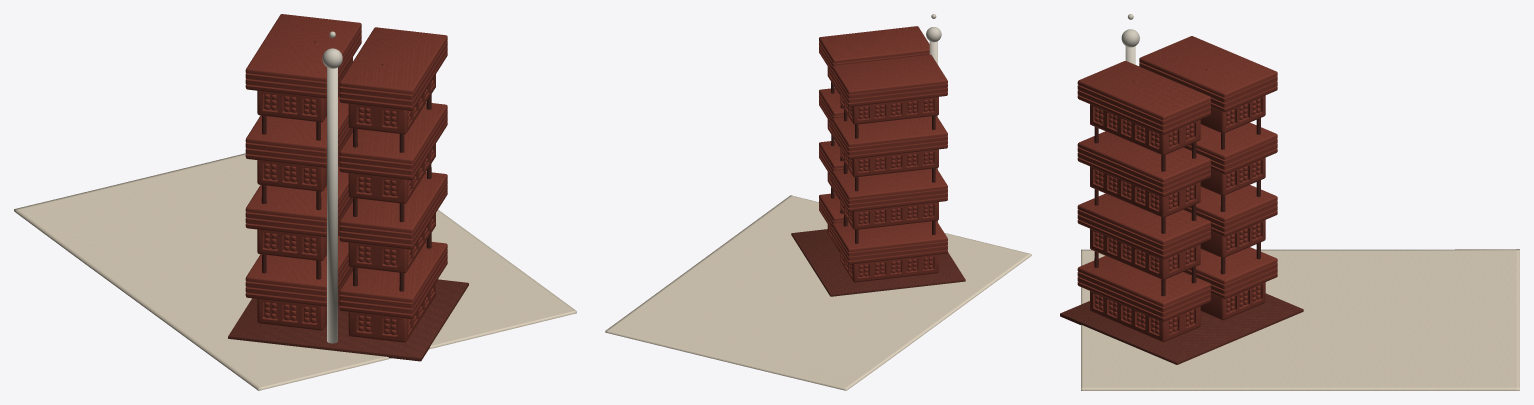
The model's file is layers-baked.glb.
3 views of the same model, side by side, from view 1: azimuth 30°, elevation 25°; view 2: azimuth 150°, elevation 25°; view 3: azimuth 270°, elevation 25° (orthographic). The views are drawn at different scales.
Parts seen in each view (by area): view 1: ground_layers, LAYERS_lid_3L, LAYERS_lid_3R, LAYERS_baseplate, LAYERS_lid_1R, LAYERS_lid_2R, LAYERS_lid_0R, LAYERS_lid_2L, LAYERS_lid_0L, LAYERS_lid_1L, LAYERS_spine, LAYERS_box_1R (+11 smaller); view 2: ground_layers, LAYERS_lid_3L, LAYERS_baseplate, LAYERS_lid_0L, LAYERS_lid_1L, LAYERS_lid_2L, LAYERS_lid_3R, LAYERS_box_0L, LAYERS_box_1L, LAYERS_box_2L, LAYERS_box_3L, LAYERS_lid_0R (+6 smaller); view 3: ground_layers, LAYERS_lid_3R, LAYERS_lid_3L, LAYERS_baseplate, LAYERS_lid_1R, LAYERS_lid_2R, LAYERS_lid_0R, LAYERS_lid_2L, LAYERS_lid_0L, LAYERS_lid_1L, LAYERS_box_0R, LAYERS_box_3R (+10 smaller).
Part boxes in pixels (x1,y1,x2,y2): ground_layers: (14,153,576,390); LAYERS_lid_3L: (245,14,361,98); LAYERS_lid_3R: (339,27,447,110); LAYERS_baseplate: (228,279,468,361); LAYERS_lid_1R: (339,171,447,249); LAYERS_lid_2R: (339,102,447,180); LAYERS_lid_0R: (339,241,447,318); LAYERS_lid_2L: (245,96,351,167); LAYERS_lid_0L: (245,235,351,306); LAYERS_lid_1L: (245,165,351,237); LAYERS_spine: (327,67,337,343); LAYERS_box_1R: (348,213,435,273); ground_layers: (605,195,1031,390); LAYERS_lid_3L: (832,54,947,106); LAYERS_baseplate: (791,229,965,296); LAYERS_lid_0L: (832,220,947,264); LAYERS_lid_1L: (832,168,947,211); LAYERS_lid_2L: (832,115,947,159); LAYERS_lid_3R: (819,26,929,72); LAYERS_box_0L: (840,252,938,282); LAYERS_box_1L: (840,199,938,229); LAYERS_box_2L: (840,147,938,177); LAYERS_box_3L: (840,94,938,124); LAYERS_lid_0R: (819,193,847,230); ground_layers: (1081,249,1519,390); LAYERS_lid_3R: (1077,61,1210,134); LAYERS_lid_3L: (1139,36,1277,112); LAYERS_baseplate: (1060,293,1303,364); LAYERS_lid_1R: (1077,193,1210,259); LAYERS_lid_2R: (1077,131,1210,197); LAYERS_lid_0R: (1077,256,1210,321); LAYERS_lid_2L: (1183,122,1277,174); LAYERS_lid_0L: (1183,247,1277,298); LAYERS_lid_1L: (1184,185,1277,236); LAYERS_box_0R: (1090,291,1200,342); LAYERS_box_3R: (1090,104,1200,155).
Size of the model in its own units: 18 by 16.98 by 25.1.
Materials: 6 (6 with a texture image).
